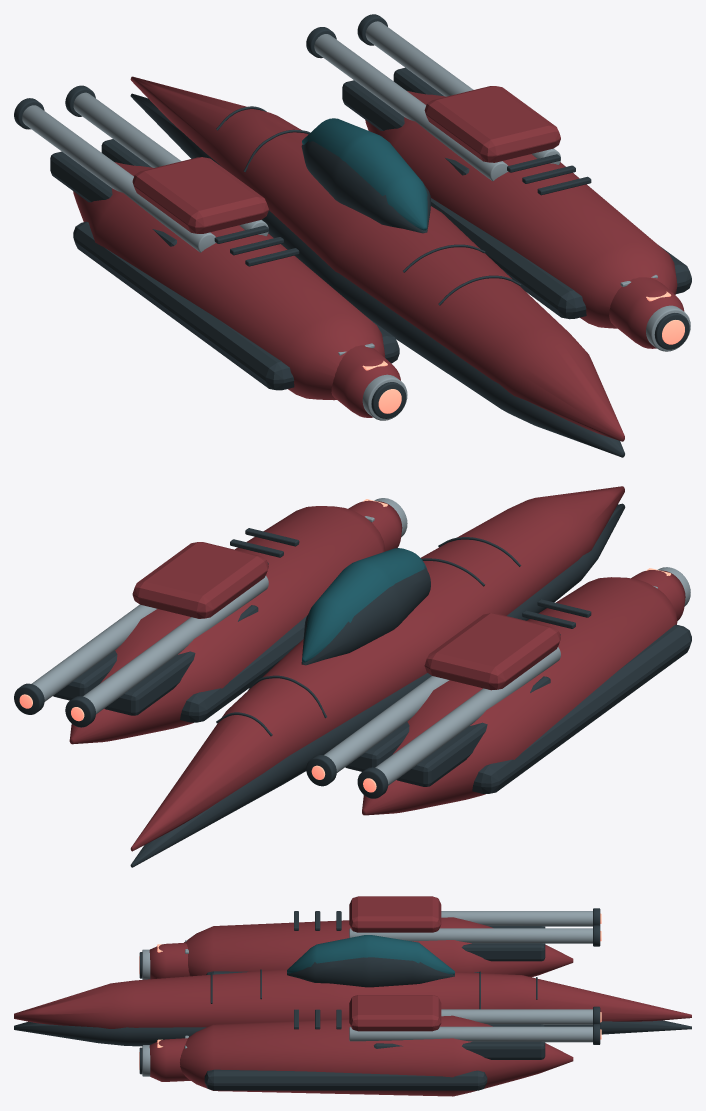
File: boss-1.glb
The picture shows the model from 3 angles, top to bottom: view 1: azimuth 30°, elevation 25°; view 2: azimuth 150°, elevation 25°; view 3: azimuth 270°, elevation 25°; orthographic projection. The views are drawn at different scales.
Parts seen in each view (by area): view 1: SM_Hull, SM_Wing_Left, SM_Wing_Right, SM_Weapon_Right, SM_Weapon_Left, SM_Engine_Right, SM_Engine_Left; view 2: SM_Hull, SM_Wing_Left, SM_Wing_Right, SM_Weapon_Left, SM_Weapon_Right, SM_Engine_Right, SM_Engine_Left; view 3: SM_Hull, SM_Wing_Right, SM_Weapon_Right, SM_Weapon_Left, SM_Wing_Left, SM_Engine_Right, SM_Engine_Left.
Boxes of the visible parts, x1,y1,x2,y2 form: SM_Hull: [130, 76, 624, 457]; SM_Wing_Left: [73, 162, 399, 400]; SM_Wing_Right: [365, 91, 691, 328]; SM_Weapon_Right: [306, 14, 560, 181]; SM_Weapon_Left: [14, 85, 268, 252]; SM_Engine_Right: [609, 275, 690, 351]; SM_Engine_Left: [331, 343, 407, 420]; SM_Hull: [130, 486, 625, 867]; SM_Wing_Left: [362, 577, 691, 815]; SM_Wing_Right: [69, 506, 385, 744]; SM_Weapon_Left: [306, 613, 560, 798]; SM_Weapon_Right: [14, 542, 268, 727]; SM_Engine_Right: [348, 498, 407, 551]; SM_Engine_Left: [631, 567, 690, 620]; SM_Hull: [14, 935, 691, 1046]; SM_Wing_Right: [180, 1009, 573, 1096]; SM_Weapon_Right: [349, 995, 601, 1059]; SM_Weapon_Left: [349, 896, 601, 961]; SM_Wing_Left: [184, 911, 573, 977]; SM_Engine_Right: [139, 1035, 190, 1081]; SM_Engine_Left: [139, 940, 189, 979].
Size of the model in its own units: 4.8 by 1.63 by 9.6.
